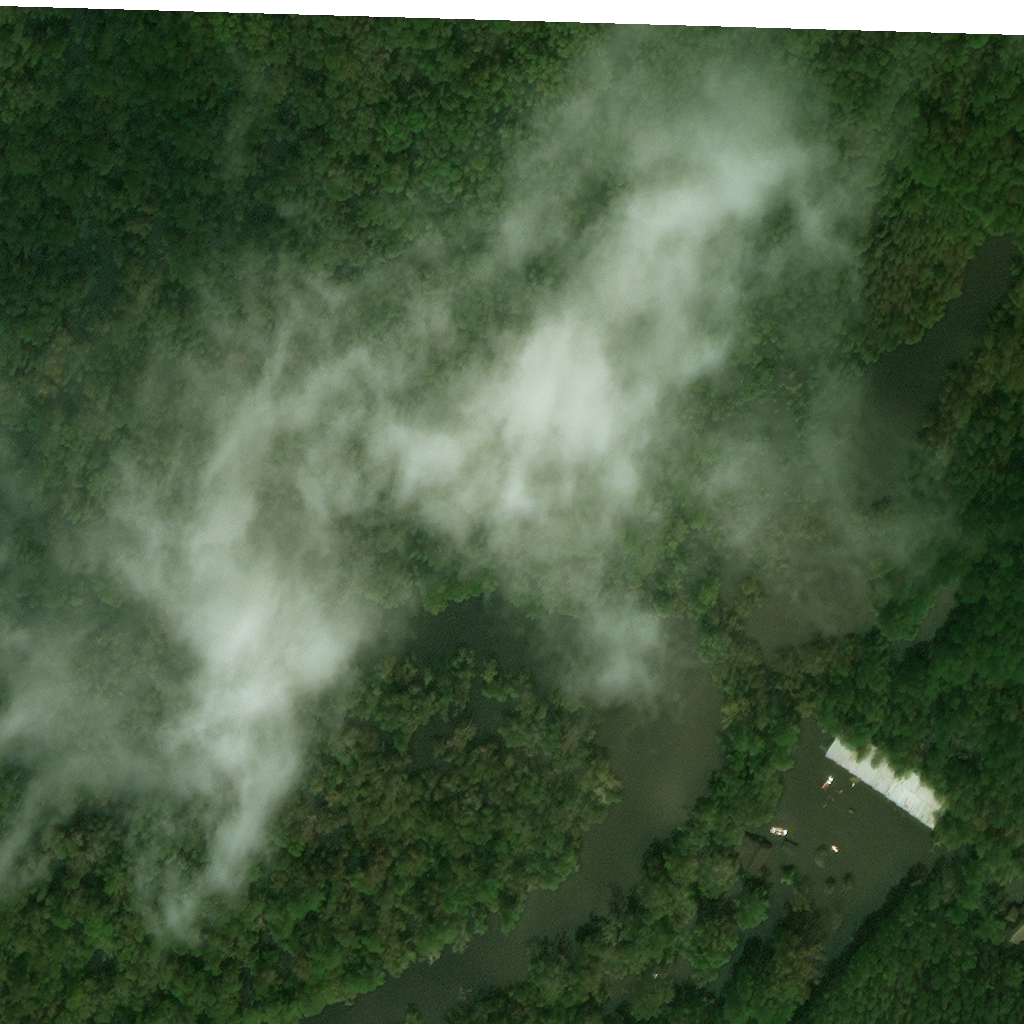major_damage: (823, 720, 951, 824), (733, 830, 774, 878), (632, 942, 675, 978), (1000, 903, 1022, 941), (780, 839, 798, 855)
